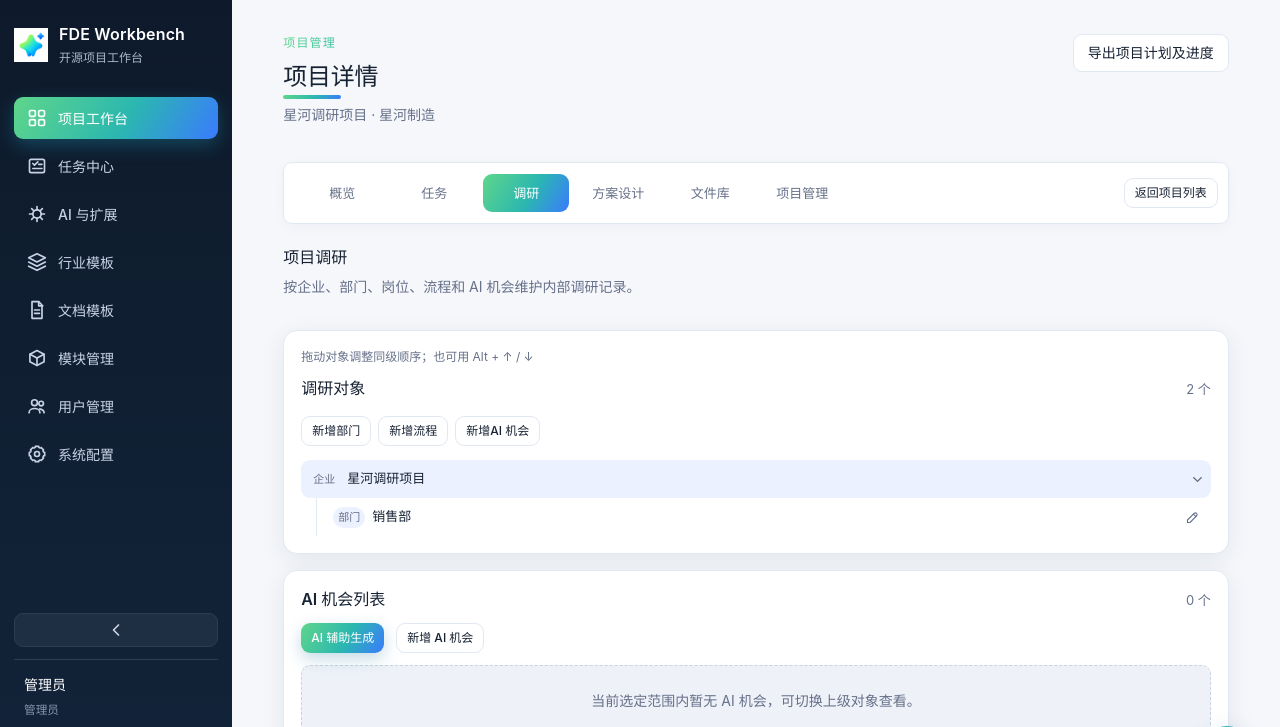
Scenario: project research workspace › shows the saved description for the selected research subject
This screenshot has width=1280, height=727.
Click the list item "部门 销售部": coordinates (349, 517) [326,498,1176,536]
(page scrolled)
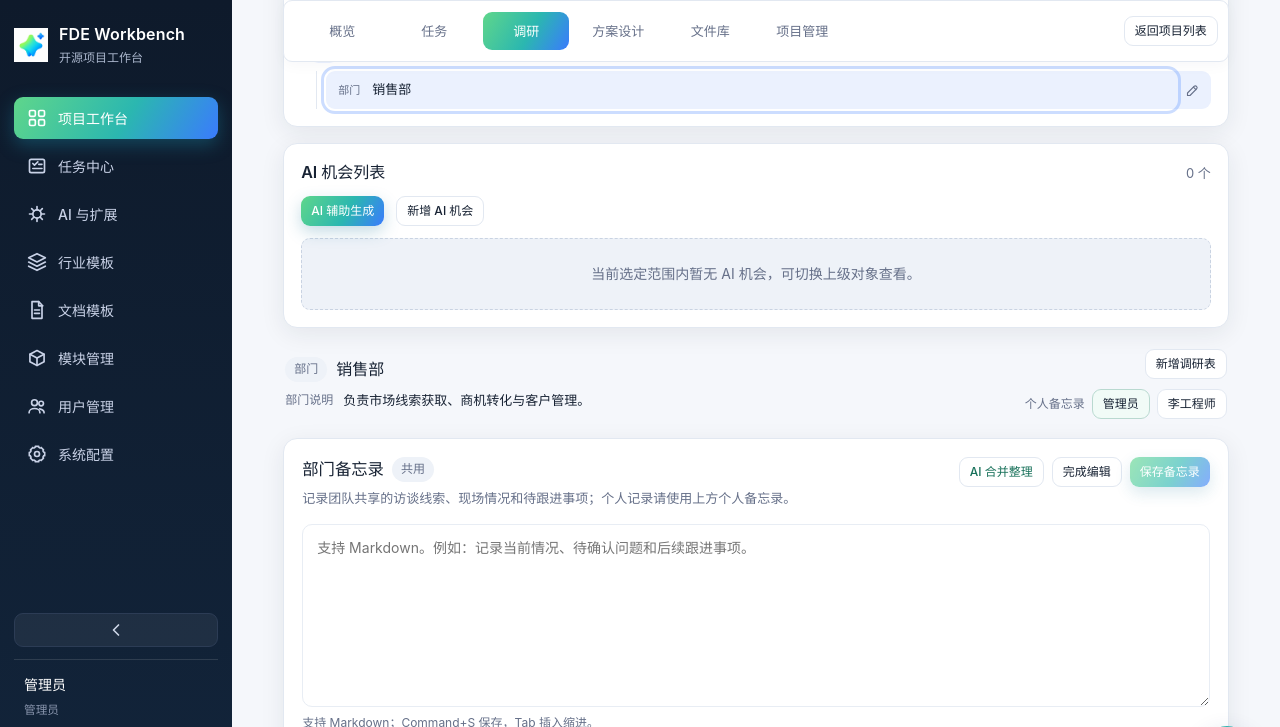
Check: the text "部门说明" is shown, box [285,390,333,411]
Check: the text "负责市场线索获取、商机转化与客户管理。" is shown, box [343,392,590,408]
